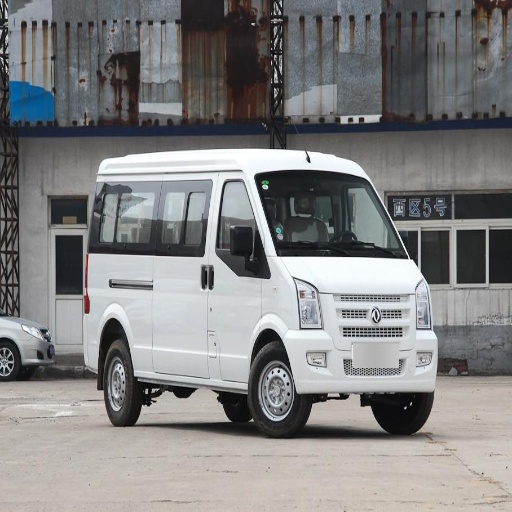front_bumper: (293, 293, 437, 393)
front_glass: (258, 172, 406, 257)
front_right_door: (180, 176, 268, 378)
trunk: (82, 274, 130, 363)
